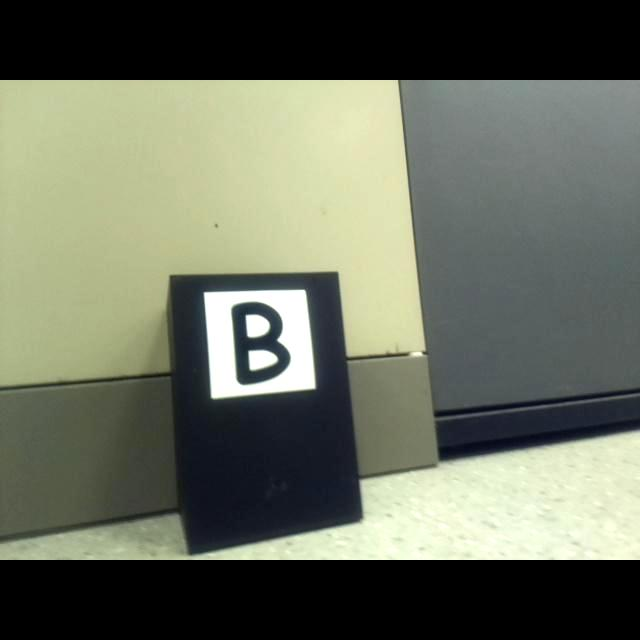B: (231, 302, 291, 386)
